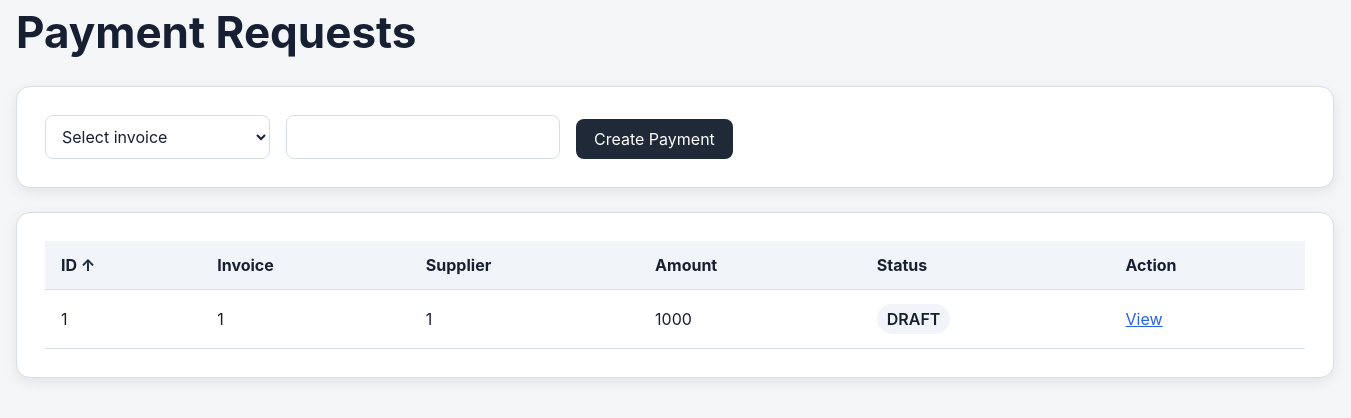
it: PaymentsPage › shows duplicate payment conflict
This screenshot has width=1351, height=418.
Expected: the text "DRAFT" is shown, [877,304,950,334]
Step 1. Select "INV-002 - Supplier Two" in the dropdown → (158, 137), box [45,115,270,159]
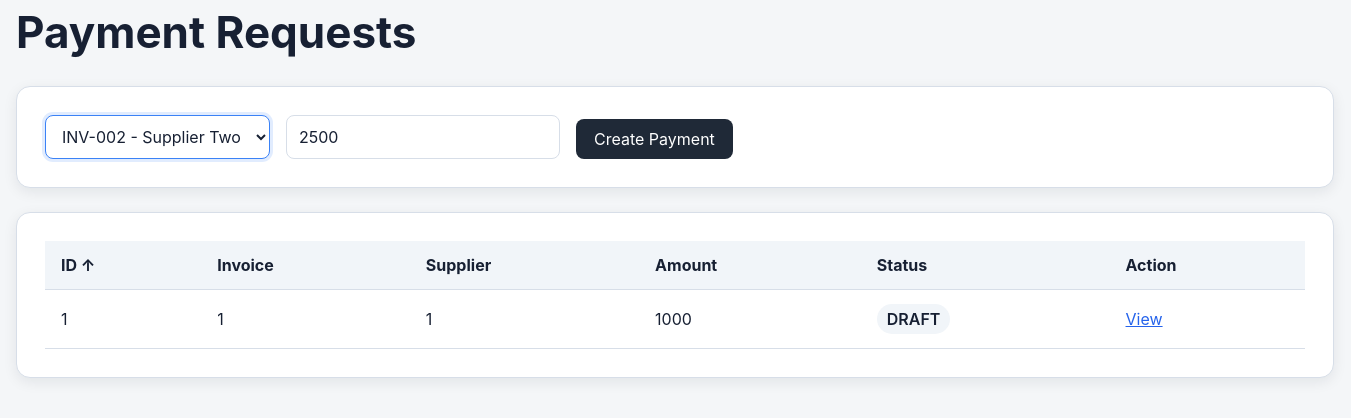
Step 2. Click the button "Create Payment" → (654, 139), box [576,119,733,159]
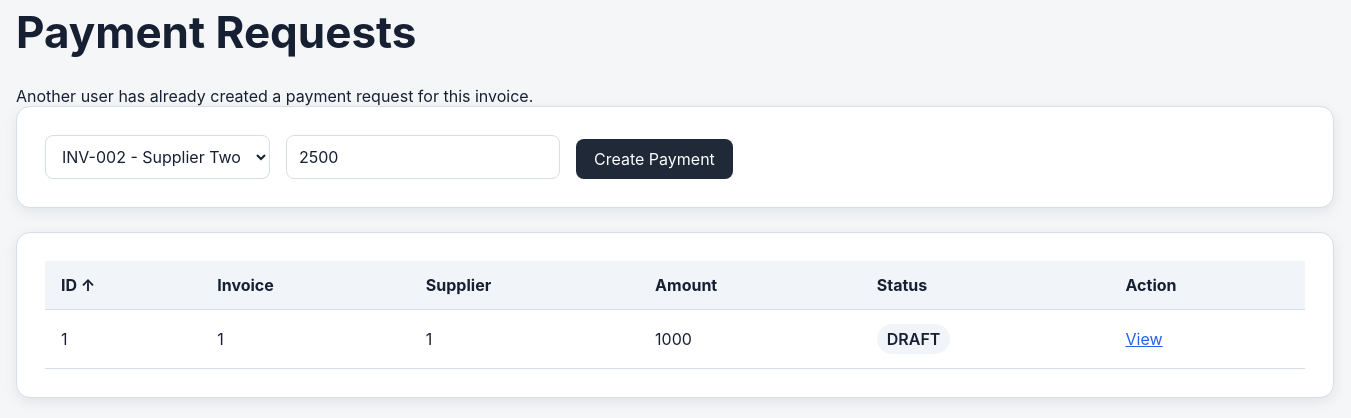
Result: the text "Another user has already created a payment request for this invoice." is shown at [16,86,533,106]
